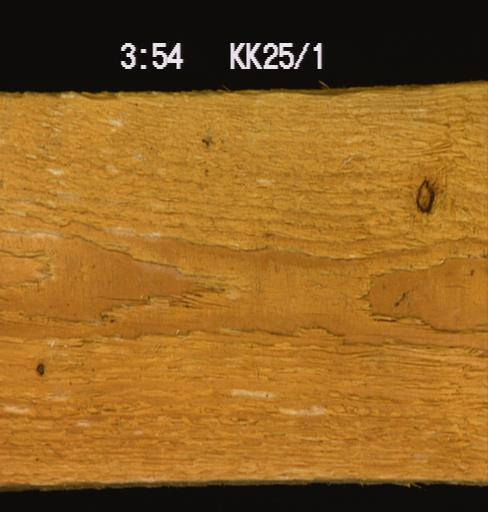dry_knot: (413, 175, 435, 215)
small_knot: (33, 359, 46, 377)
